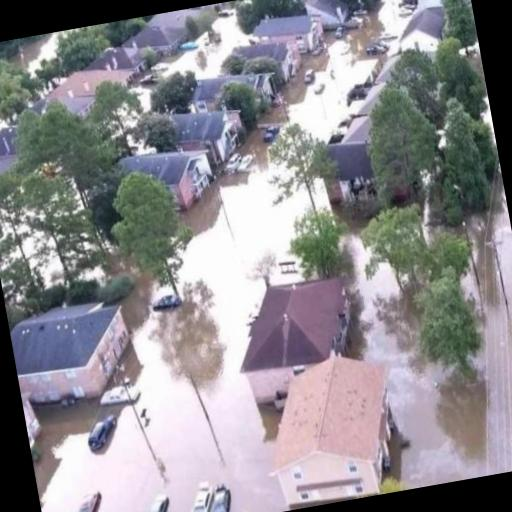flood: (32, 127, 310, 512), (338, 167, 512, 489), (260, 0, 408, 140), (160, 12, 248, 78), (129, 85, 149, 111)
house: (256, 342, 414, 512), (222, 260, 371, 418), (6, 290, 139, 418), (316, 104, 392, 216), (120, 140, 214, 220), (170, 100, 242, 175), (36, 56, 132, 112), (224, 33, 300, 103), (250, 6, 322, 66), (395, 0, 451, 62), (125, 18, 192, 56)
